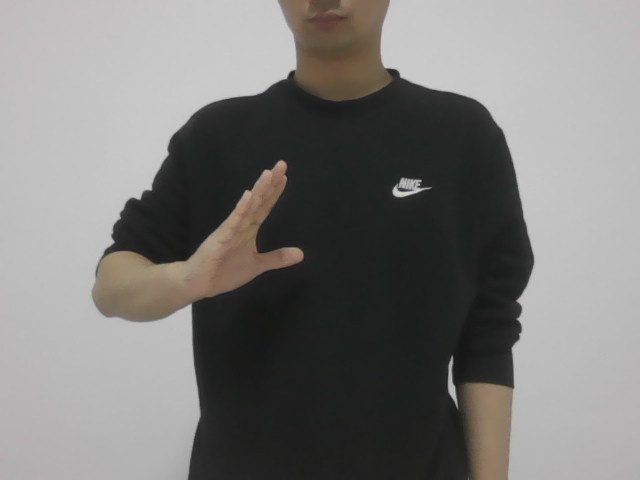morning: (183, 160, 327, 305)
